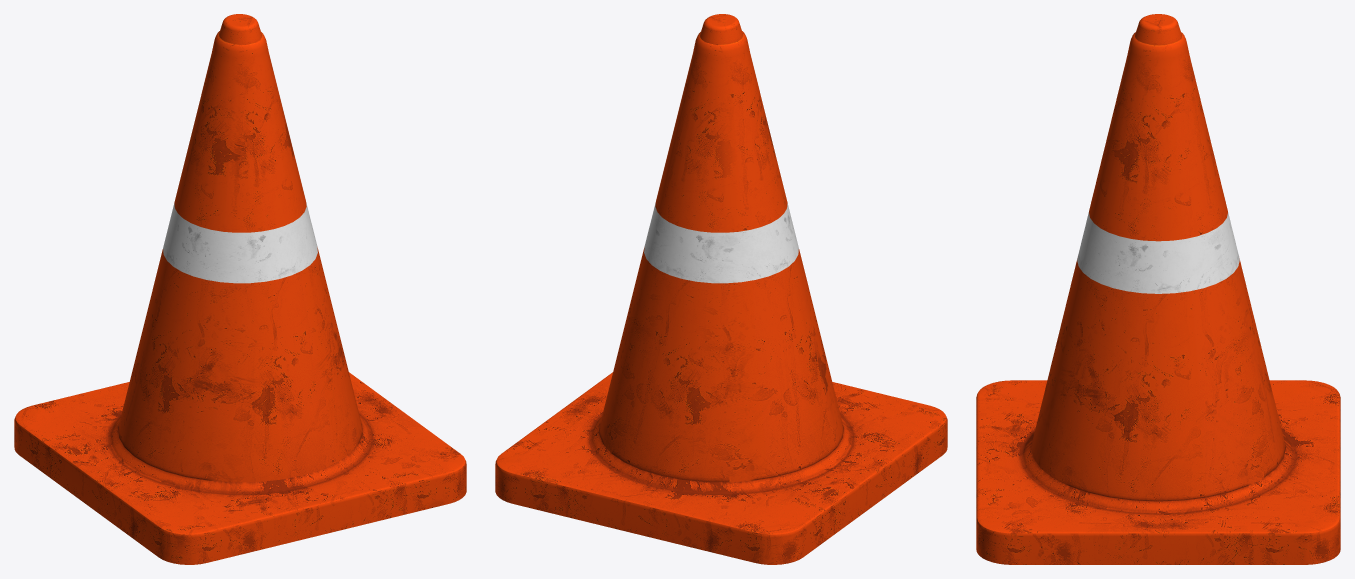
Rendered from trafficCone.fbx.
3 views of the same model, side by side, from view 1: azimuth 30°, elevation 25°; view 2: azimuth 150°, elevation 25°; view 3: azimuth 270°, elevation 25° (orthographic). The views are drawn at different scales.
Visible parts, largest first — view 1: trafficCone.001, trafficCone; view 2: trafficCone.001, trafficCone; view 3: trafficCone.001, trafficCone.
Part boxes in pixels (bbox=[...]): trafficCone.001: bbox=[14, 14, 466, 564]; trafficCone: bbox=[163, 203, 317, 283]; trafficCone.001: bbox=[495, 14, 947, 564]; trafficCone: bbox=[644, 203, 798, 283]; trafficCone.001: bbox=[976, 14, 1340, 564]; trafficCone: bbox=[1077, 212, 1239, 293].
Size of the model in its own units: 40 by 56.66 by 40.
2 materials, 2 textured.
